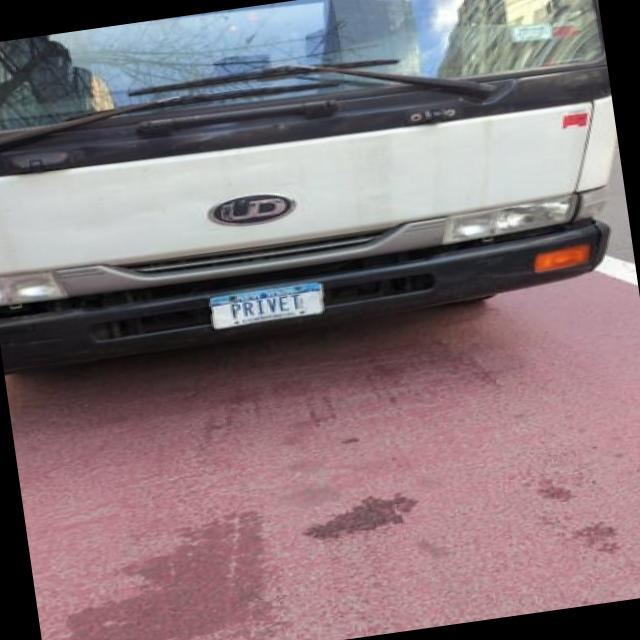LicensePlate: (206, 280, 327, 332)
